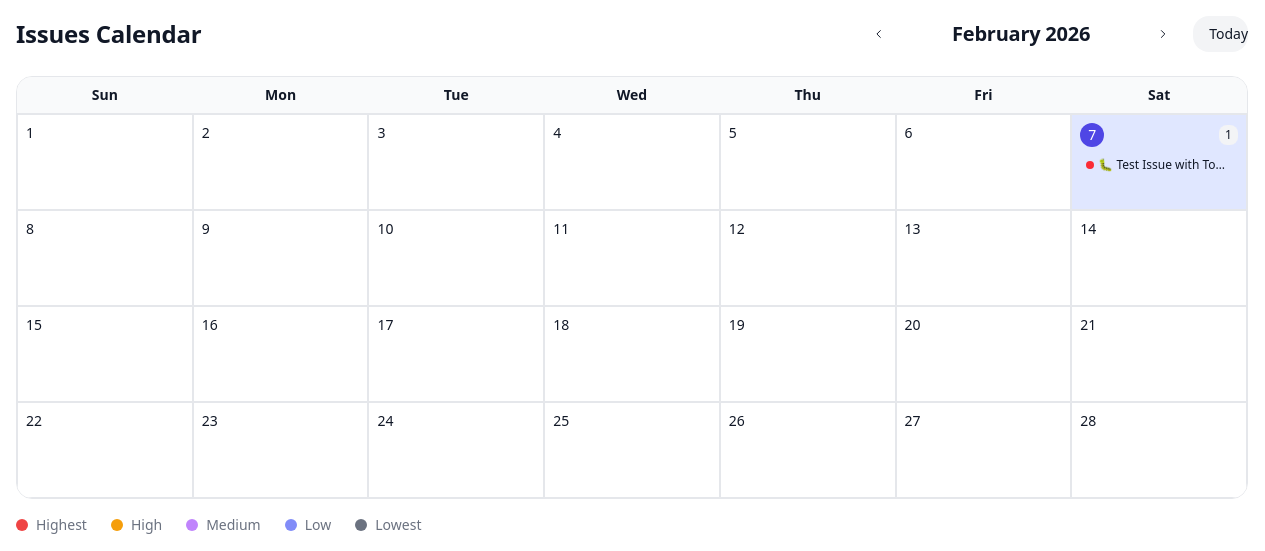
IssuesCalendarView › should display issues with tooltips
Expected: the text "🐛 Test Issue with Tooltip" is shown, [1098,157,1232,173]
Hover over the button "🐛 Test Issue with Tooltip" at (1159, 165), box [1080,151,1238,179]
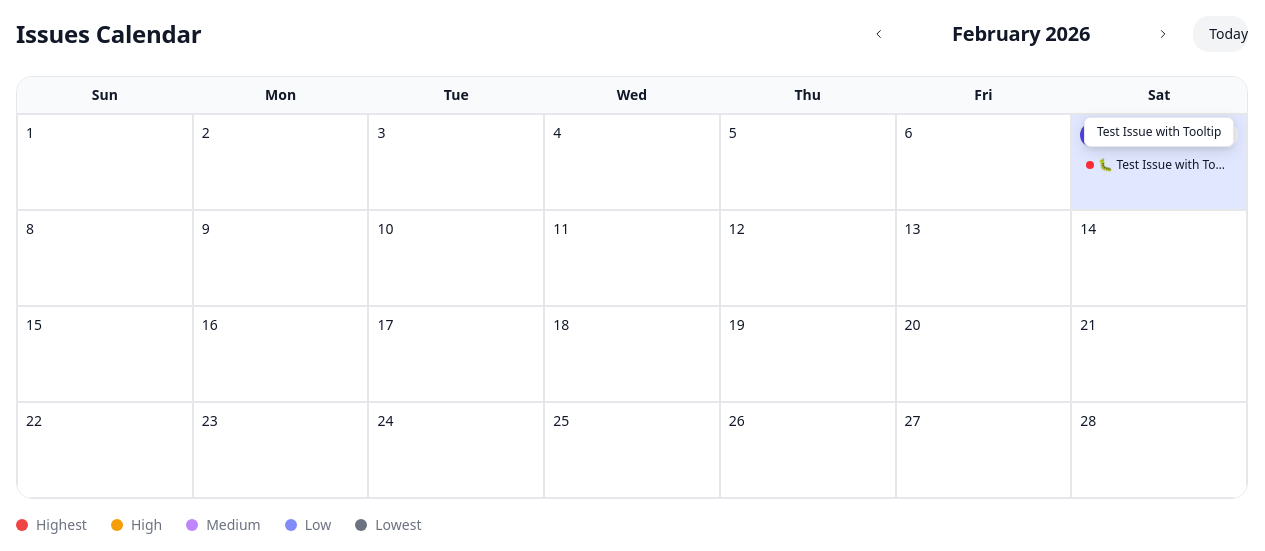
Expected: the tooltip "Test Issue with Tooltip" is shown, [1084,117,1234,147]
